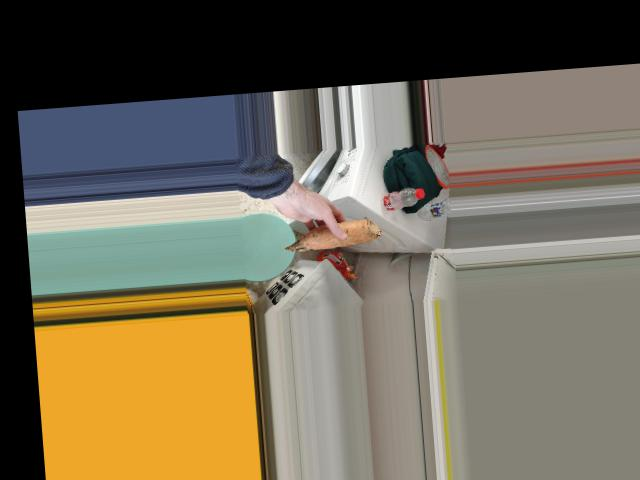sweet_potato: (288, 214, 386, 248)
